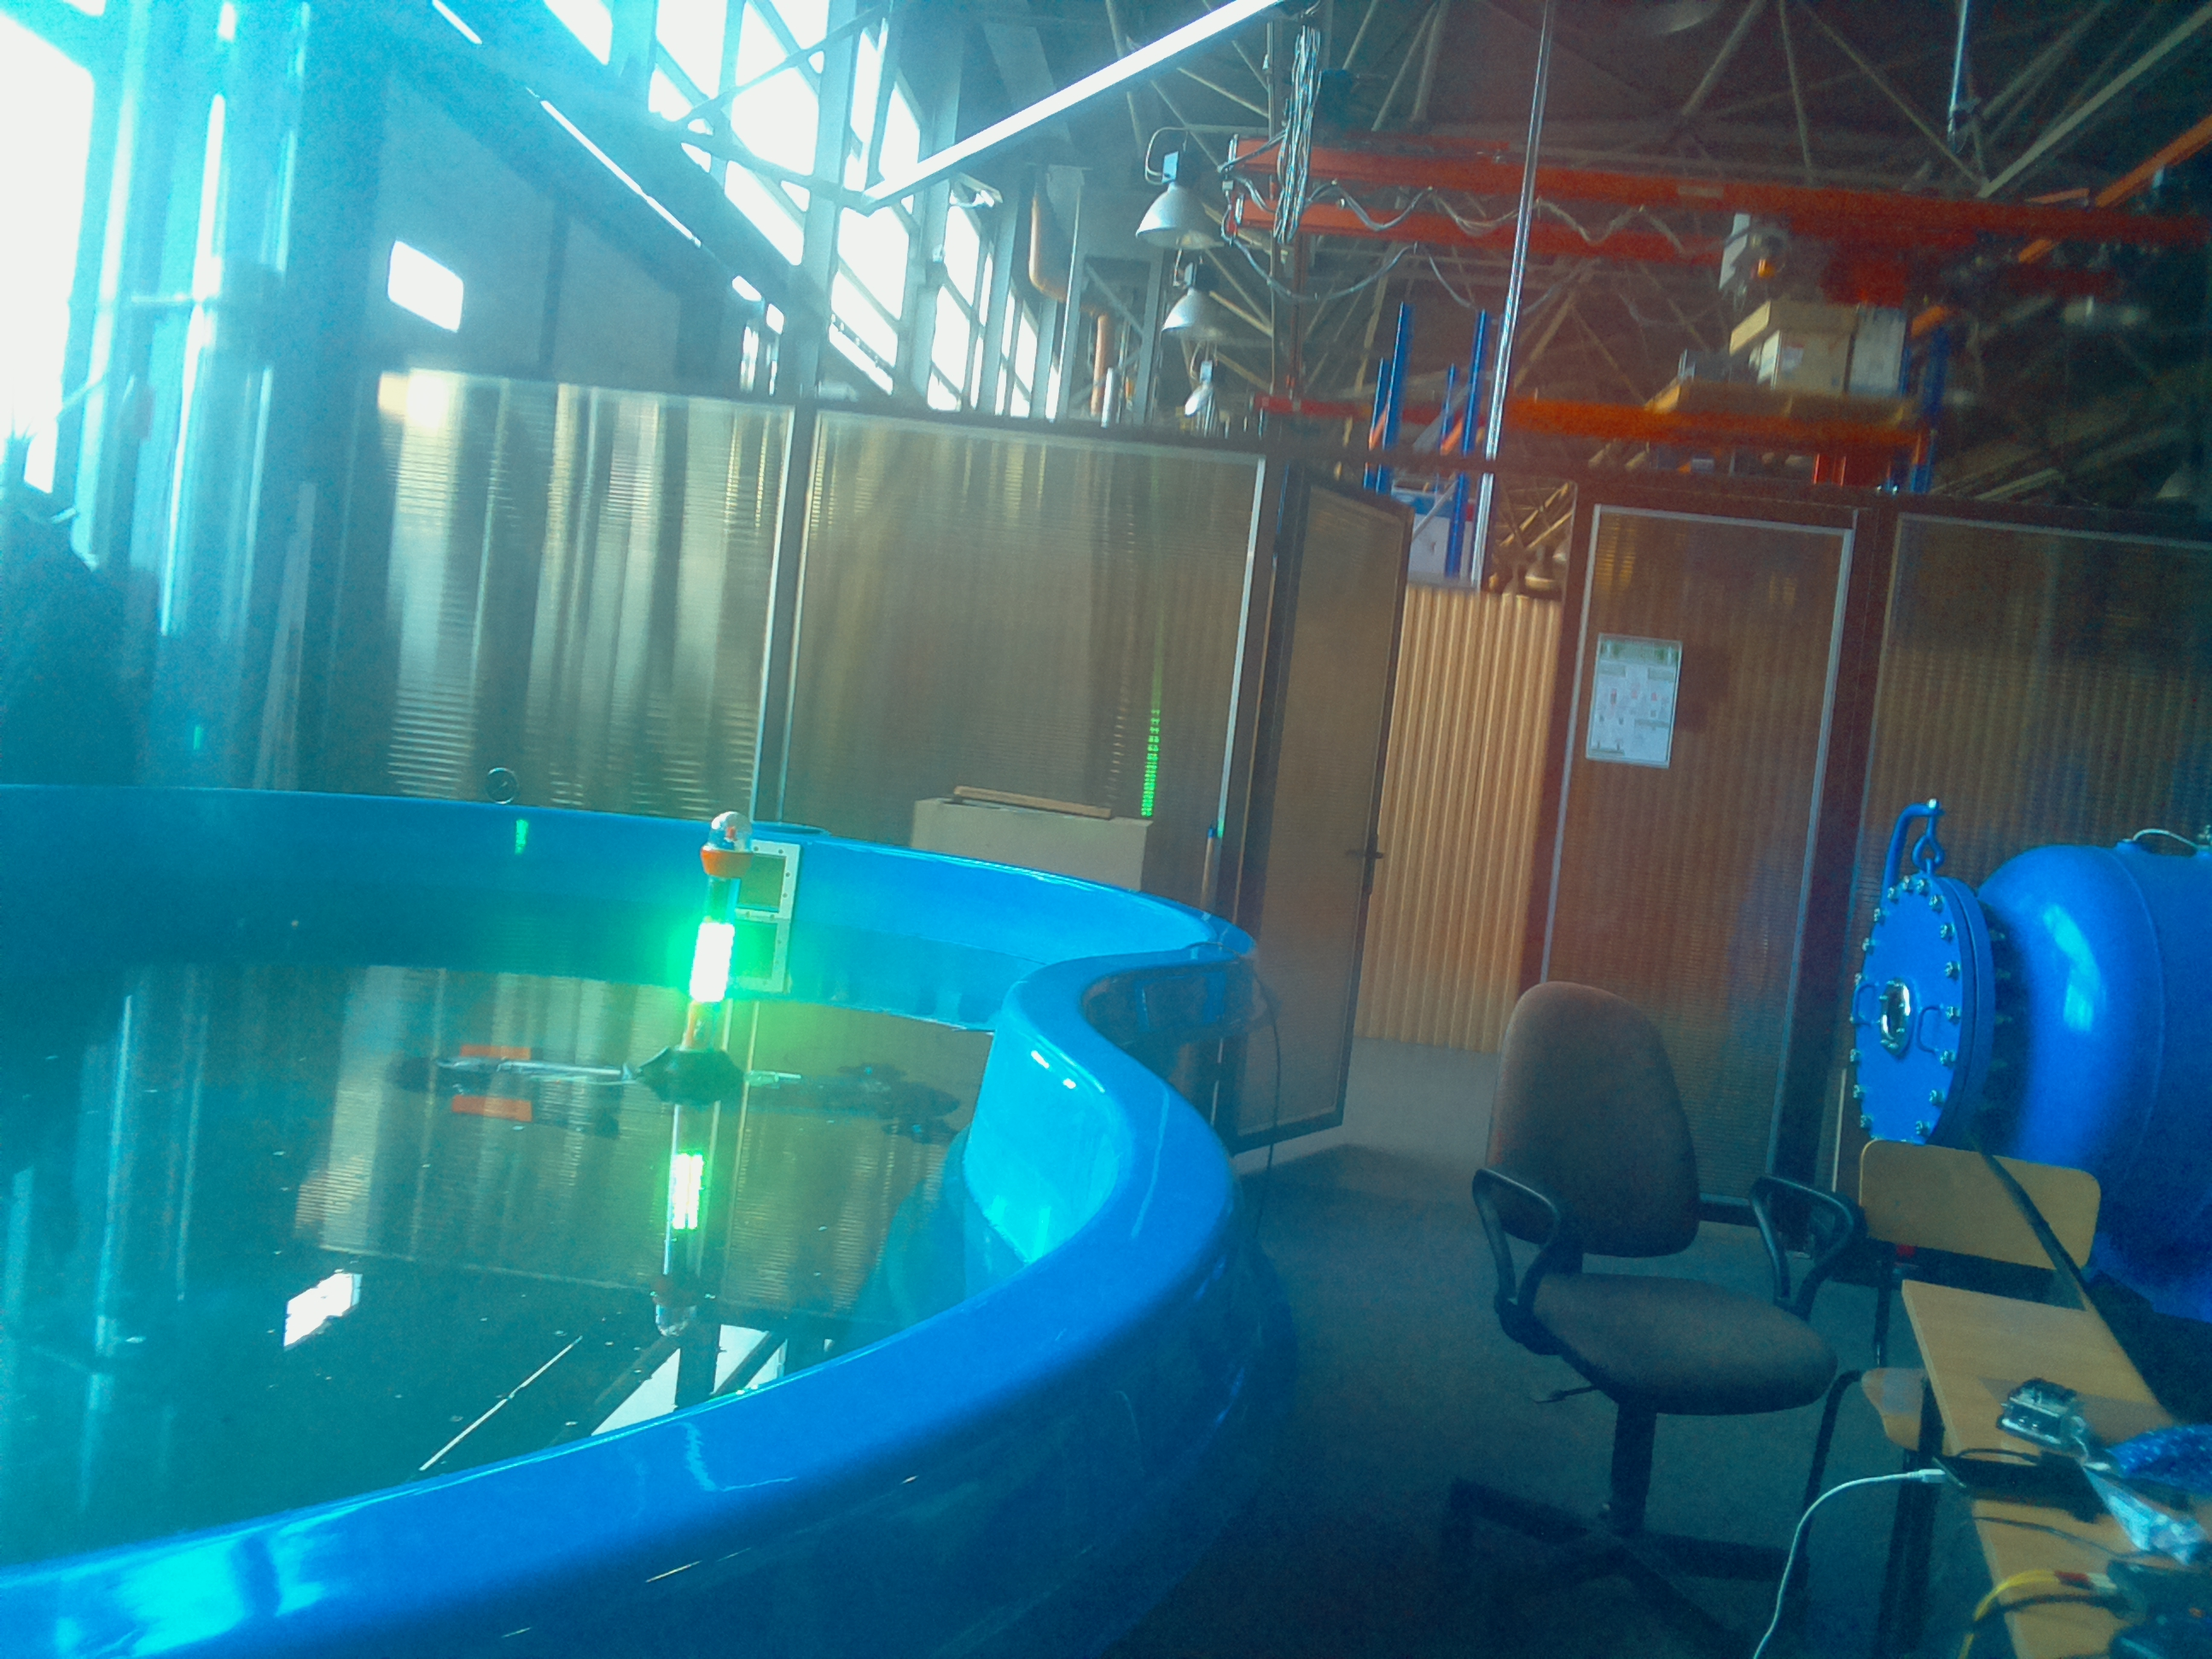green: (674, 835, 744, 1075)
